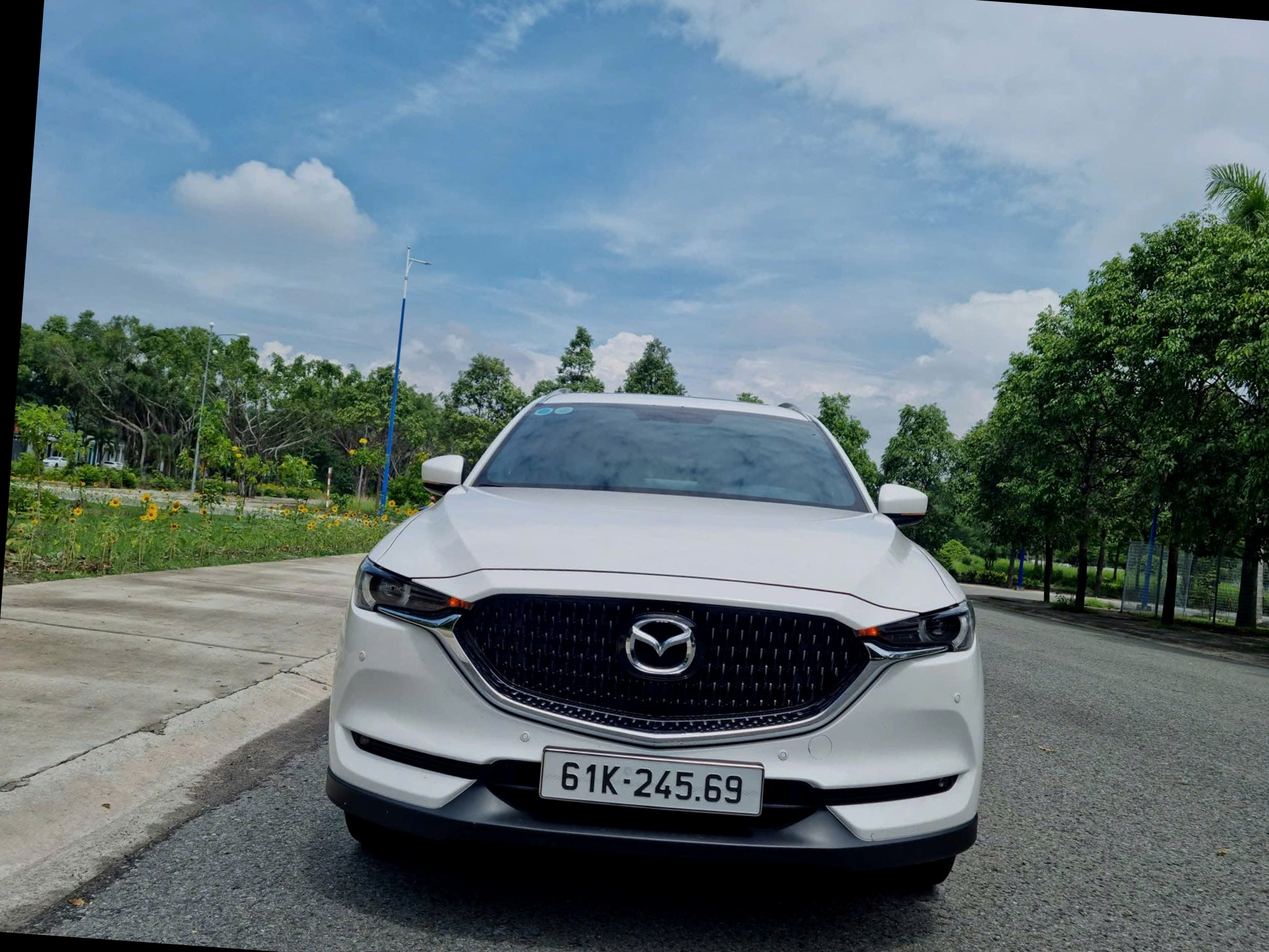Bien-so: (534, 739, 771, 821)
